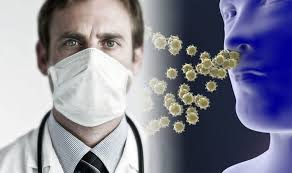mask: (38, 0, 141, 126)
